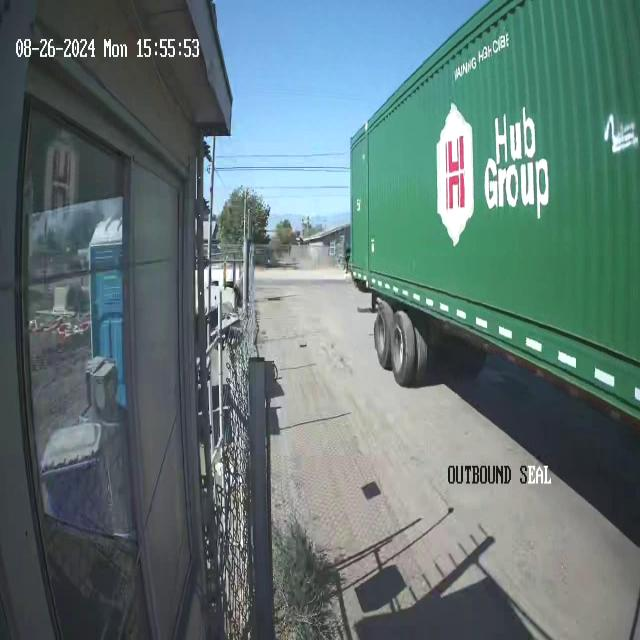TRUCK_CONTAINER: (348, 1, 639, 427)
